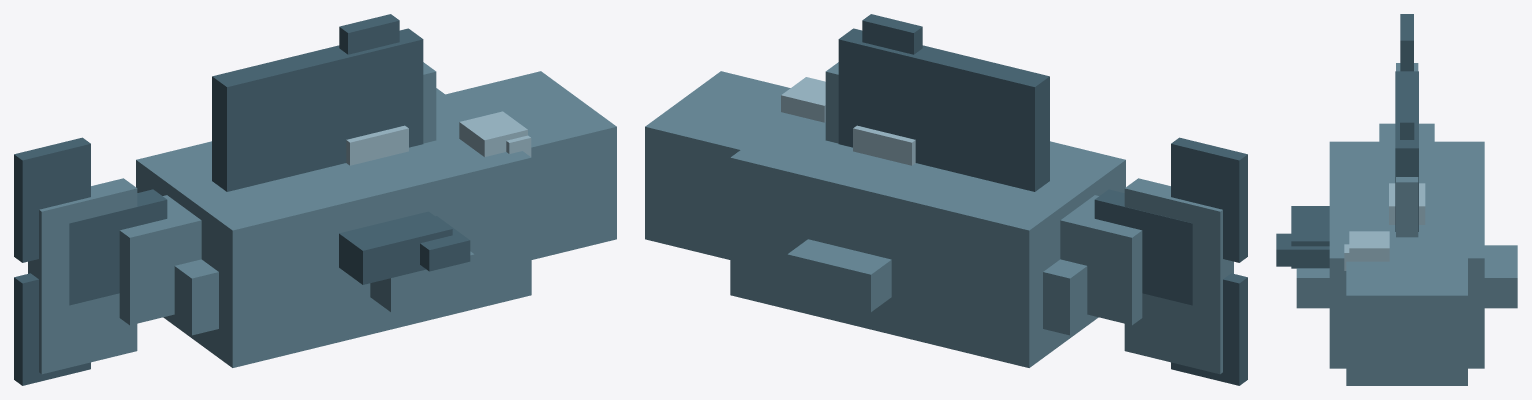
Rendered from fish_dock_blenny.glb.
3 renders of one model, left to right at view 1: azimuth 30°, elevation 25°; view 2: azimuth 150°, elevation 25°; view 3: azimuth 270°, elevation 25°, orthographic. The views are drawn at different scales.
Parts seen in each view (by area): view 1: FishArt_body, FishArt_dorsal, FishArt_tail, FishArt_pectoral, FishArt_eye, FishArt_specialty; view 2: FishArt_body, FishArt_dorsal, FishArt_tail, FishArt_specialty, FishArt_eye; view 3: FishArt_body, FishArt_pectoral, FishArt_dorsal, FishArt_eye, FishArt_tail, FishArt_specialty.
Boxes of the visible parts, x1,y1,x2,y2 form: FishArt_body: (28,62,616,374); FishArt_dorsal: (212,14,423,191); FishArt_tail: (14,137,167,385); FishArt_pectoral: (339,211,470,284); FishArt_eye: (459,111,531,156); FishArt_specialty: (346,125,408,165); FishArt_body: (645,62,1233,374); FishArt_dorsal: (838,14,1049,191); FishArt_tail: (1094,137,1247,385); FishArt_specialty: (853,125,915,165); FishArt_eye: (781,77,825,122); FishArt_body: (1296,63,1517,385); FishArt_pectoral: (1276,206,1329,268); FishArt_dorsal: (1395,71,1418,231); FishArt_eye: (1344,231,1389,270); FishArt_tail: (1400,14,1413,71); FishArt_specialty: (1389,183,1425,224).
Bounding box in the file's own units: 0.3091 × 0.1442 × 0.1439.
